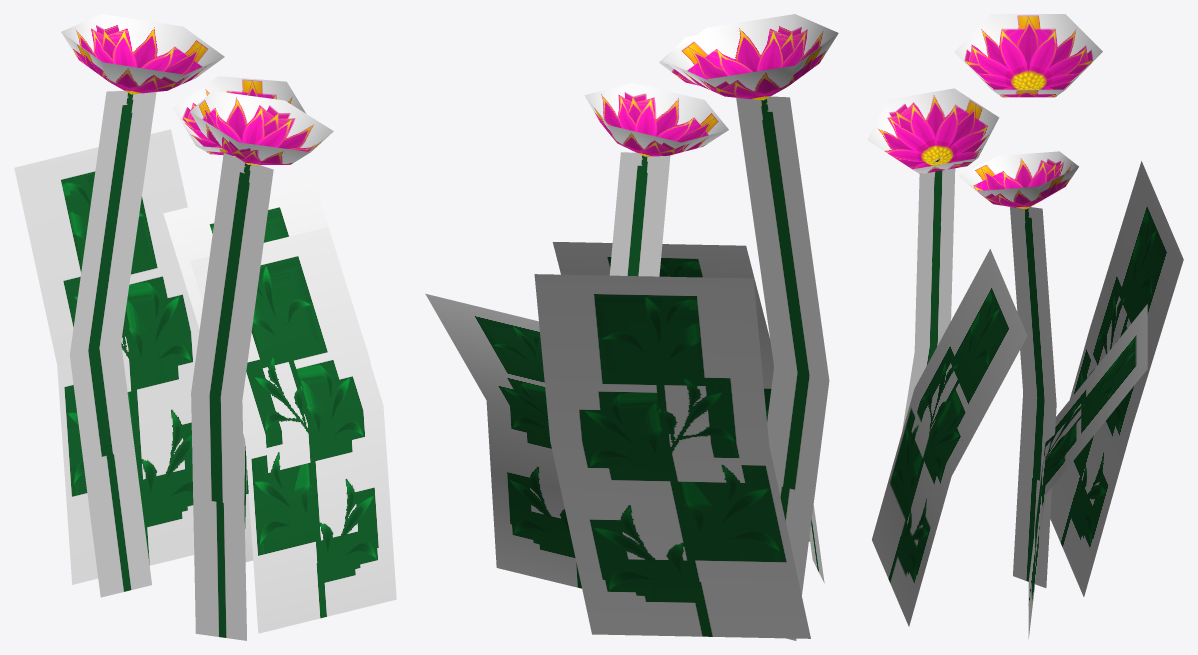
File: Flower_05a.FBX
3 renders of one model, left to right at view 1: azimuth 30°, elevation 25°; view 2: azimuth 150°, elevation 25°; view 3: azimuth 270°, elevation 25°, orthographic. The views are drawn at different scales.
Parts seen in each view (by area): view 1: Flower_05a; view 2: Flower_05a; view 3: Flower_05a.
Boxes of the visible parts, x1,y1,x2,y2 form: Flower_05a: (14,14,396,640); Flower_05a: (425,14,838,640); Flower_05a: (867,14,1183,638).
Size of the model in its own units: 18.17 by 31.68 by 17.97.
Materials: 1 (1 with a texture image).
